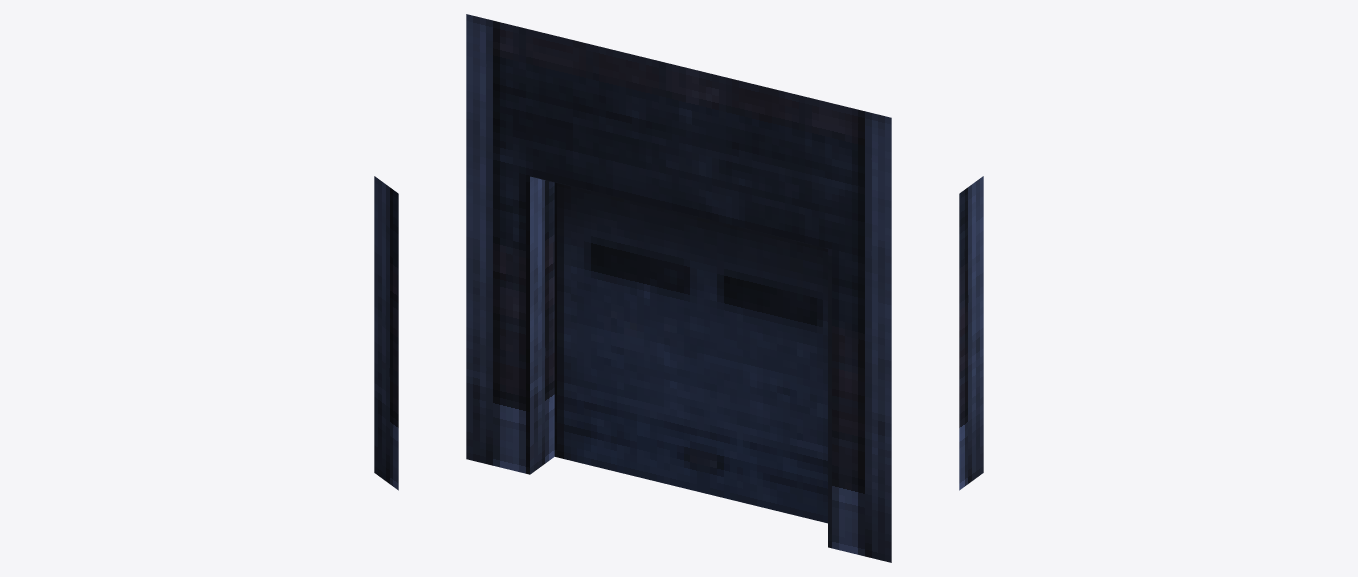
The picture shows the model from 3 angles, left to right: view 1: azimuth 30°, elevation 25°; view 2: azimuth 150°, elevation 25°; view 3: azimuth 330°, elevation 25°; orthographic projection.
Visible parts, largest first — view 1: wall-a-flat-garage; view 2: wall-a-flat-garage; view 3: wall-a-flat-garage.
Boxes of the visible parts, box(x1,y1,x2,y2) form: wall-a-flat-garage: box(374, 176, 398, 490); wall-a-flat-garage: box(466, 14, 891, 562); wall-a-flat-garage: box(959, 176, 983, 490).
Size of the model in its own units: 1 by 1 by 0.1.
Materials: 3 (3 with a texture image).
